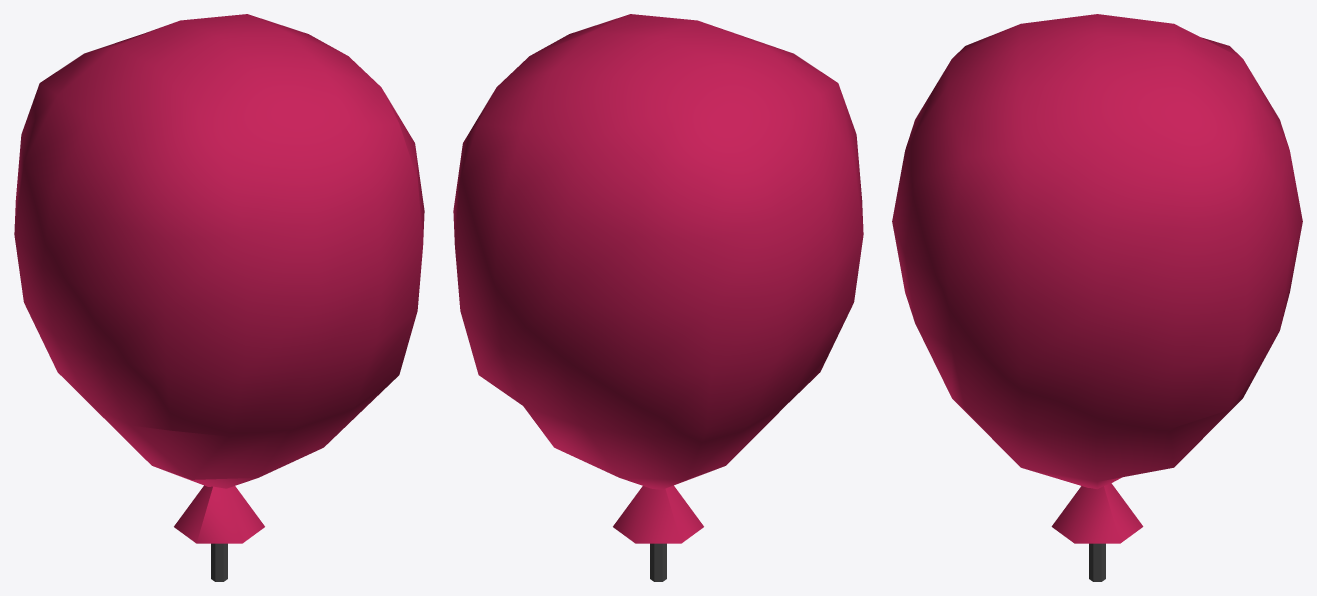
File: balloon.fbx
3 views of the same model, side by side, from view 1: azimuth 30°, elevation 25°; view 2: azimuth 150°, elevation 25°; view 3: azimuth 270°, elevation 25° (orthographic).
Parts seen in each view (by area): view 1: body1, body2, tail; view 2: body1, body2, tail; view 3: body1, body2, tail.
Part boxes in pixels (x1,y1,x2,y2): body1: (14, 14, 424, 488); body2: (174, 485, 264, 543); tail: (211, 543, 227, 581); body1: (453, 14, 863, 489); body2: (613, 485, 703, 543); tail: (650, 543, 666, 581); body1: (892, 14, 1302, 489); body2: (1051, 483, 1143, 543); tail: (1089, 543, 1105, 581).
Bounding box in the file's own units: 71.39 × 104 × 71.39.
